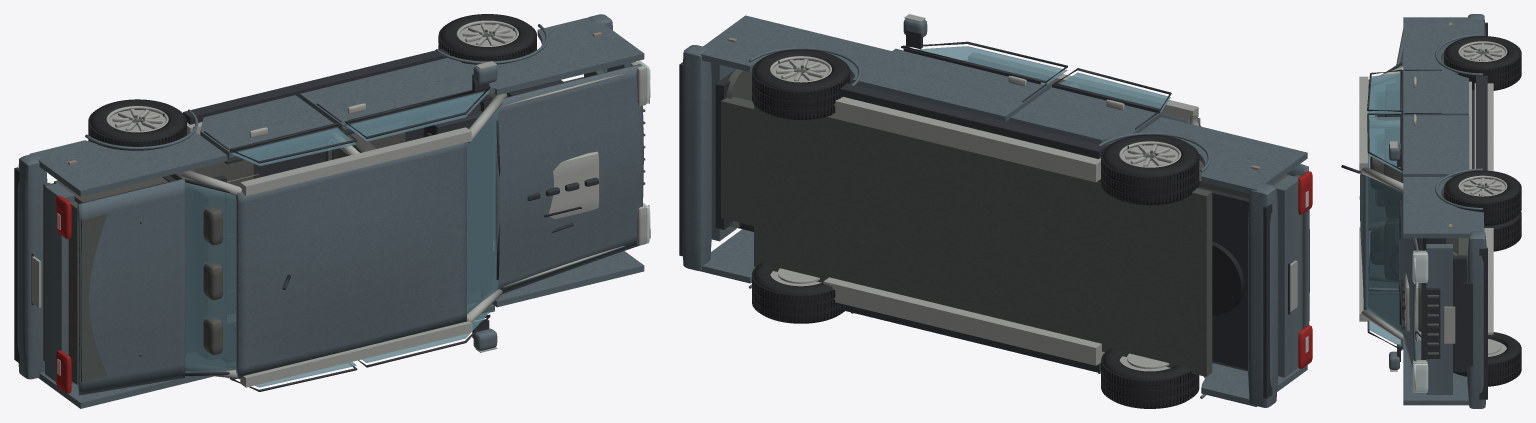
File: SEDAN_local.glb
3 views of the same model, side by side, from view 1: azimuth 30°, elevation 25°; view 2: azimuth 150°, elevation 25°; view 3: azimuth 270°, elevation 25° (orthographic). The views are drawn at different scales.
Parts seen in each view (by area): view 1: Roof_Panel_Body_Upper, Hood_Opening_Painted_Sheet, Trunk_Lid_Opens, Rear_Windscreen_Transparent, RIGHT_Rear_Quarter_WheelArch_RealCut, Door_RIGHT_FRONT_Painted_OuterSkin, RIGHT_Front_Fender_WheelArch_RealCut, Rear_Bumper_Reinforcement, Front_Windshield_Laminated_Transparent, Cockpit_Main_Dashboard_DarkShell, Door_RIGHT_REAR_Painted_OuterSkin, Rear_Tail_Quarter_Tie (+30 smaller); view 2: Unitized_Underfloor_1p42m_Width, Door_RIGHT_FRONT_Painted_OuterSkin, R_BoxSection_Rocker_Sill, L_BoxSection_Rocker_Sill, Front_Bumper_Reinforcement, Rear_Bumper_Reinforcement, RIGHT_Rear_Quarter_WheelArch_RealCut, RIGHT_Front_Fender_WheelArch_RealCut, Door_RIGHT_REAR_Painted_OuterSkin, Rear_Cargo_Well_Visible_Floor, Rear_Tail_Quarter_Tie, Engine_Subframe_Lower (+25 smaller); view 3: Front_Windshield_Laminated_Transparent, Door_RIGHT_FRONT_Painted_OuterSkin, RIGHT_Front_Fender_WheelArch_RealCut, RIGHT_Rear_Quarter_WheelArch_RealCut, Door_RIGHT_REAR_Painted_OuterSkin, Front_Fascia_Lower_Grille_Header, Front_Bumper_Reinforcement, Wheel_FRONT_RIGHT_Inflated_AllSeason_Tire, Radiator_Core, Wheel_REAR_RIGHT_Inflated_AllSeason_Tire, Hood_Opening_Painted_Sheet, LEFT_Front_Fender_WheelArch_RealCut (+47 smaller).
Part boxes in pixels (box(x1,y1,x2,y2)): Roof_Panel_Body_Upper: box(236, 142, 466, 378); Hood_Opening_Painted_Sheet: box(493, 64, 643, 294); Trunk_Lid_Opens: box(77, 178, 186, 395); Rear_Windscreen_Transparent: box(185, 182, 235, 373); RIGHT_Rear_Quarter_WheelArch_RealCut: box(29, 130, 227, 196); Door_RIGHT_FRONT_Painted_OuterSkin: box(300, 56, 494, 130); RIGHT_Front_Fender_WheelArch_RealCut: box(463, 17, 644, 95); Rear_Bumper_Reinforcement: box(17, 154, 47, 379); Front_Windshield_Laminated_Transparent: box(467, 108, 498, 313); Cockpit_Main_Dashboard_DarkShell: box(423, 105, 492, 292); Door_RIGHT_REAR_Painted_OuterSkin: box(200, 95, 337, 157); Rear_Tail_Quarter_Tie: box(45, 183, 74, 383); Unitized_Underfloor_1p42m_Width: box(754, 105, 1212, 376); Door_RIGHT_FRONT_Painted_OuterSkin: box(852, 48, 1047, 121); R_BoxSection_Rocker_Sill: box(827, 97, 1100, 182); L_BoxSection_Rocker_Sill: box(823, 277, 1104, 365); Front_Bumper_Reinforcement: box(683, 45, 711, 270); Rear_Bumper_Reinforcement: box(1248, 183, 1278, 407); RIGHT_Rear_Quarter_WheelArch_RealCut: box(1140, 117, 1307, 193); RIGHT_Front_Fender_WheelArch_RealCut: box(699, 15, 891, 78); Door_RIGHT_REAR_Painted_OuterSkin: box(1010, 87, 1160, 144); Rear_Cargo_Well_Visible_Floor: box(1198, 186, 1249, 369); Rear_Tail_Quarter_Tie: box(1274, 175, 1301, 377); Engine_Subframe_Lower: box(721, 97, 753, 226); Front_Windshield_Laminated_Transparent: box(1367, 176, 1402, 334); Door_RIGHT_FRONT_Painted_OuterSkin: box(1402, 115, 1469, 177); RIGHT_Front_Fender_WheelArch_RealCut: box(1403, 177, 1483, 238); RIGHT_Rear_Quarter_WheelArch_RealCut: box(1403, 17, 1483, 74); Door_RIGHT_REAR_Painted_OuterSkin: box(1402, 72, 1468, 115); Front_Fascia_Lower_Grille_Header: box(1426, 244, 1452, 394); Front_Bumper_Reinforcement: box(1467, 231, 1486, 408); Wheel_FRONT_RIGHT_Inflated_AllSeason_Tire: box(1445, 170, 1520, 225); Radiator_Core: box(1421, 255, 1466, 372); Wheel_REAR_RIGHT_Inflated_AllSeason_Tire: box(1445, 36, 1520, 90); Hood_Opening_Painted_Sheet: box(1399, 192, 1418, 372); LEFT_Front_Fender_WheelArch_RealCut: box(1403, 344, 1468, 405).
Size of the model in its own units: 4.88 by 2.23 by 1.63.
10 materials, 10 textured.
